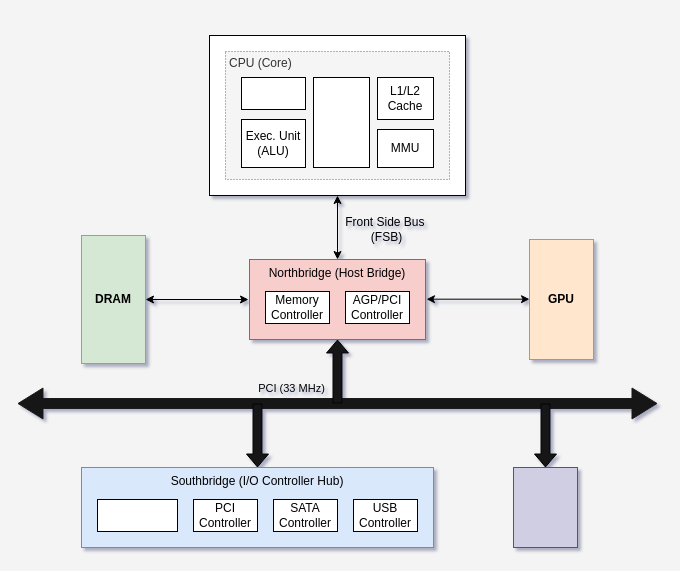
Image size: 680x571. Some labels were removed from this diagram. The box of each missing label's shape, as (x1, y1, x2, y2) in pixels:
Control Unit: (240, 76, 306, 110)
CPU (Chip): (208, 34, 466, 196)
Ethernet?: (512, 466, 578, 548)
IDE (PATA) Controller: (96, 498, 178, 532)
Register File: (312, 76, 370, 168)
